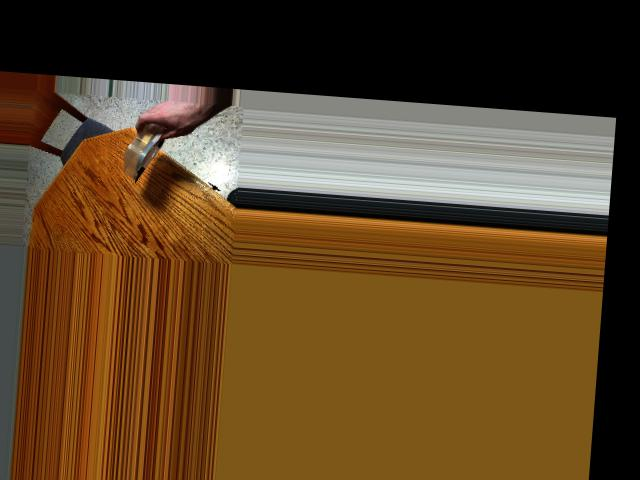cheese: (121, 118, 165, 182)
